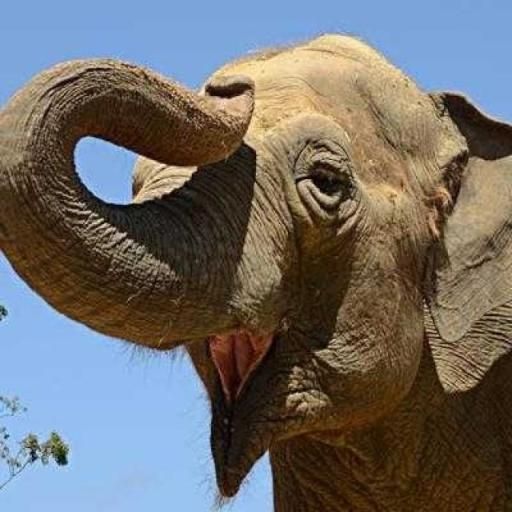Elephant: (0, 28, 510, 510)
